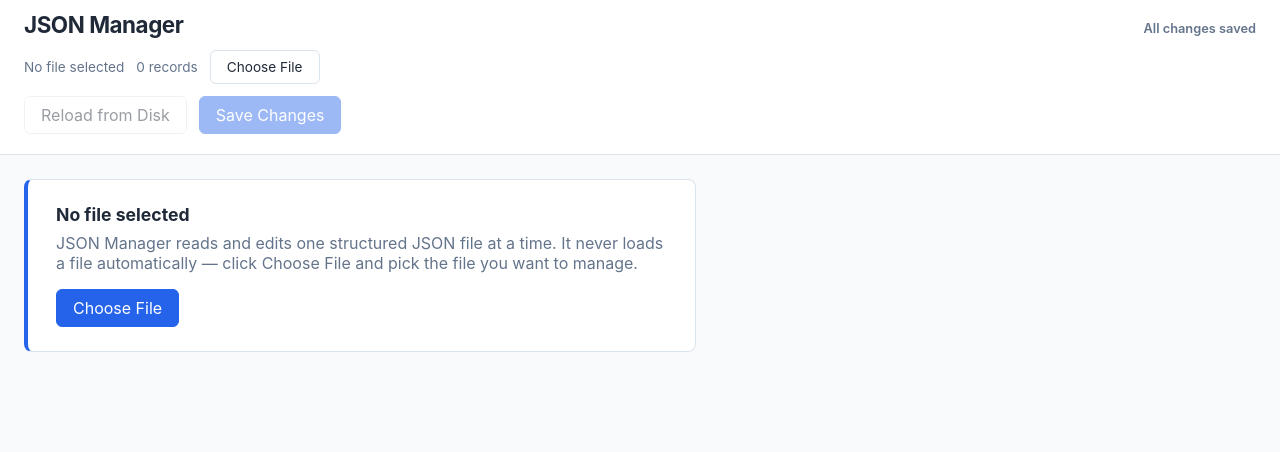
Test: App › shows a clear error when the file has no valid _default
This screenshot has width=1280, height=452.
Click the button "Choose File" next to "records".
click(265, 67)  # box left=210, top=50, right=320, bottom=84
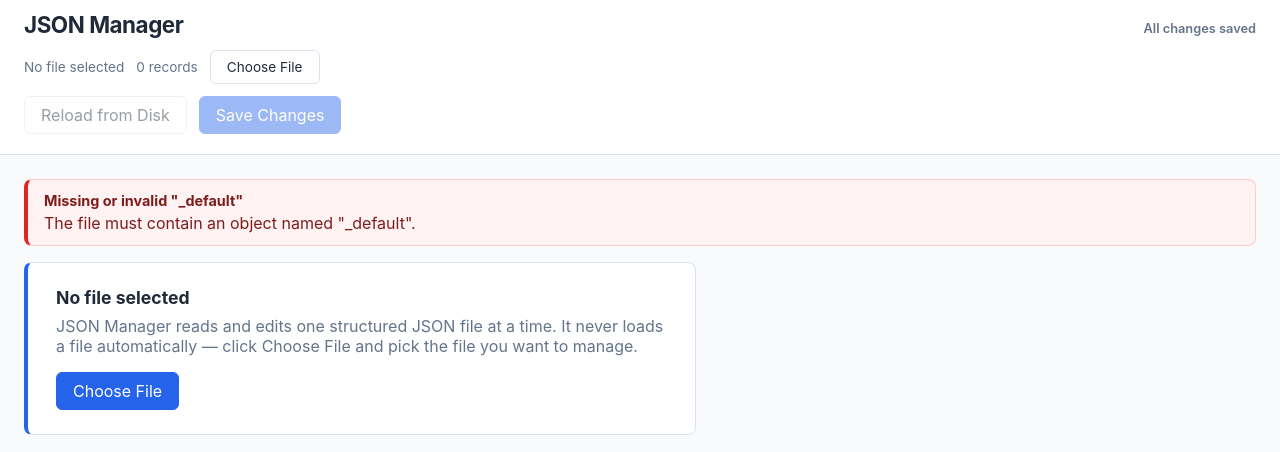
expect the message that starts with "Missing or invalid \"_default\"" shows "Missing or invalid \"_default\"": met, box left=44, top=192, right=243, bottom=209
